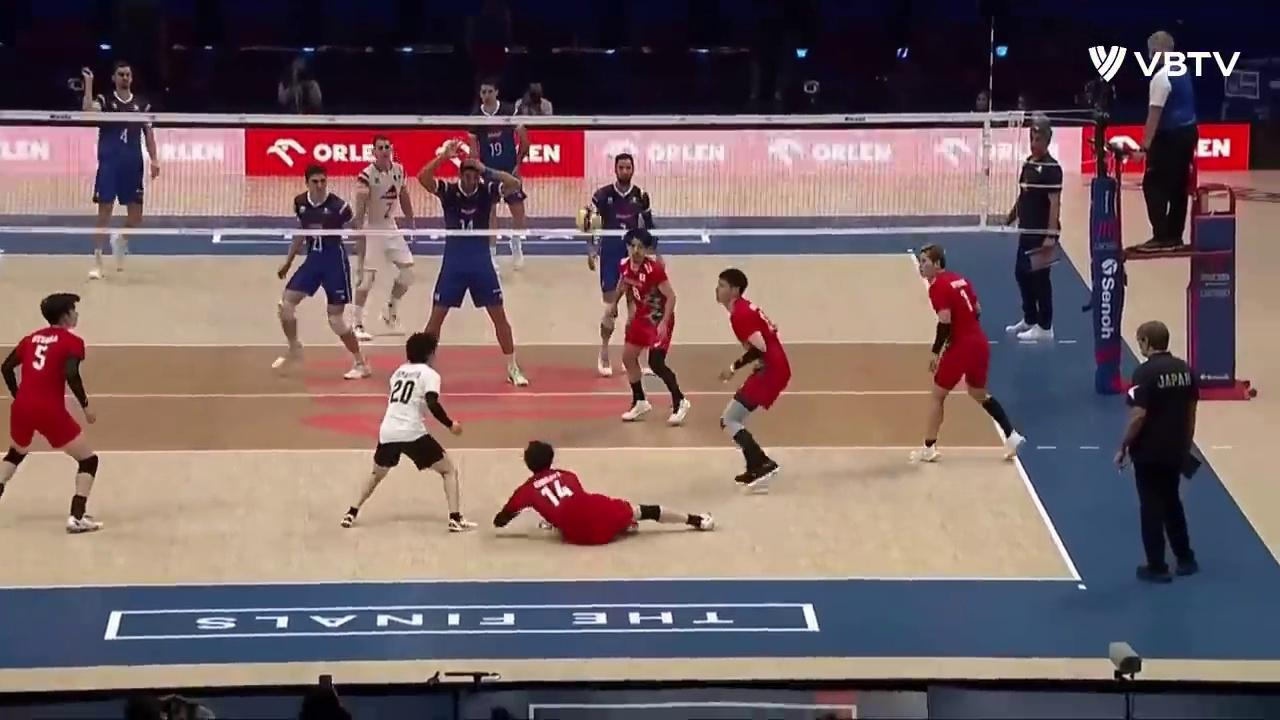ball: (577, 208, 603, 231)
